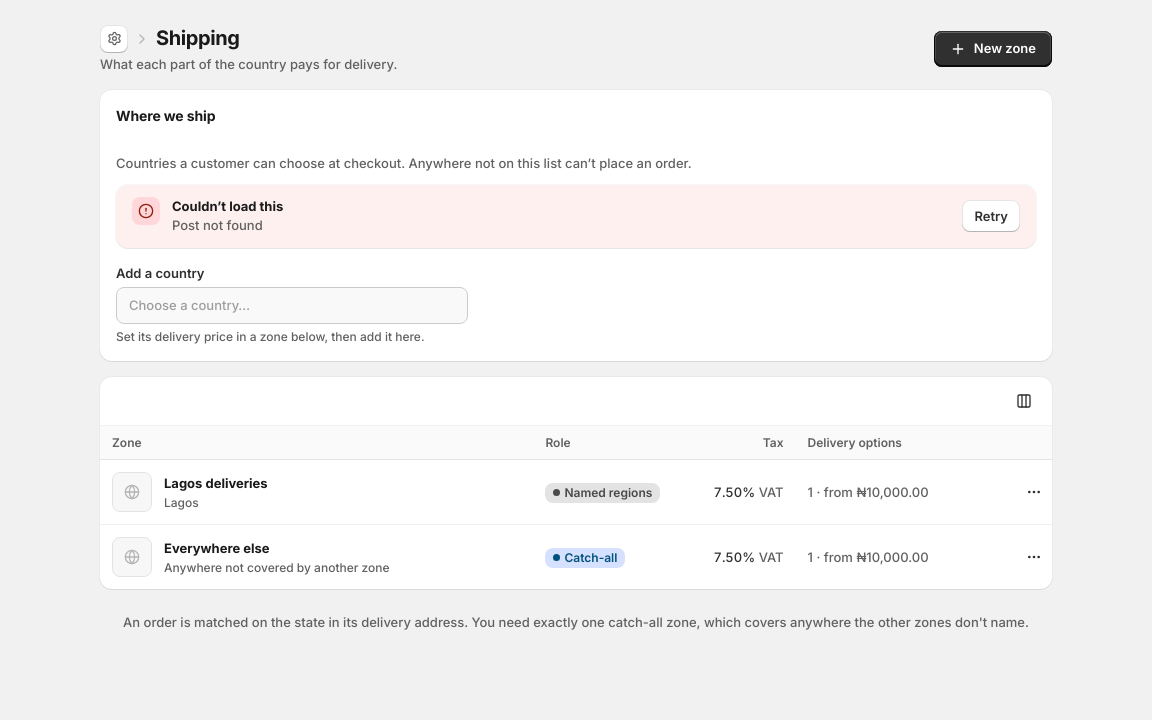
Test: the zones screen › offers no Delete on the only fallback zone’s row
Click the button named "Actions for Everywhere else": (1034, 558) [1016,540,1052,576]
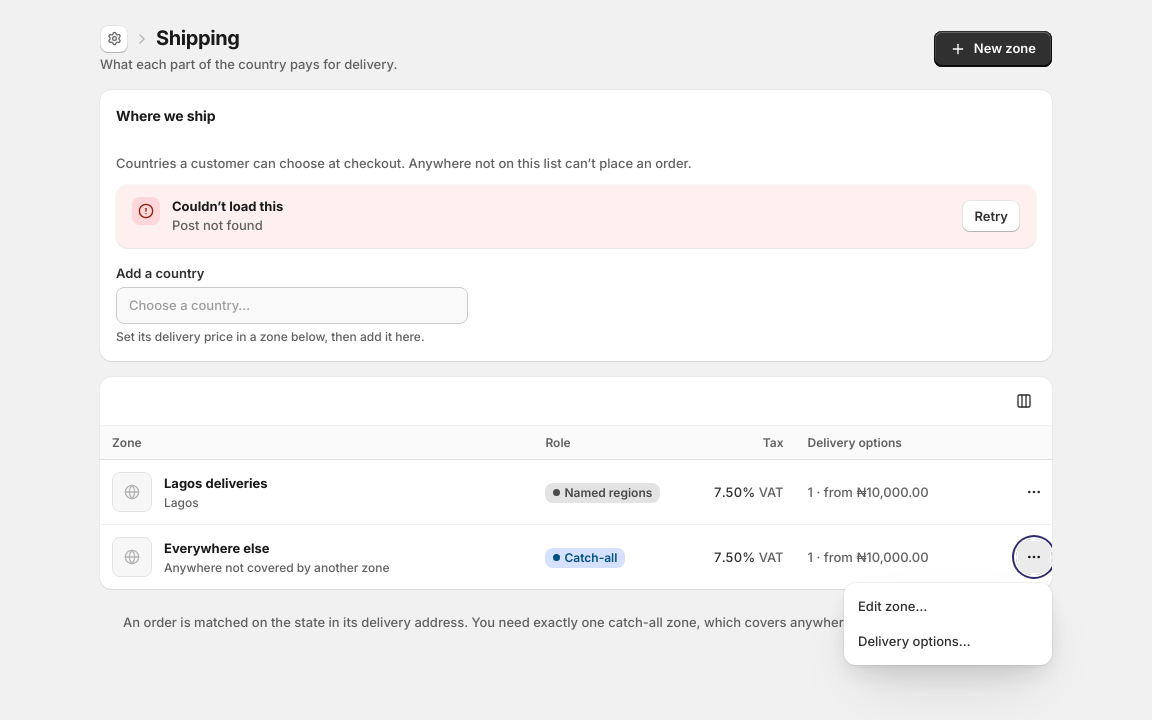
expect the menu item "Delete zone" is not shown: met
expect the menu item "Edit zone…" is shown: met, box [850,590,1046,624]
expect the menu item "Delivery options…" is shown: met, box [850,624,1046,659]
Press Escape
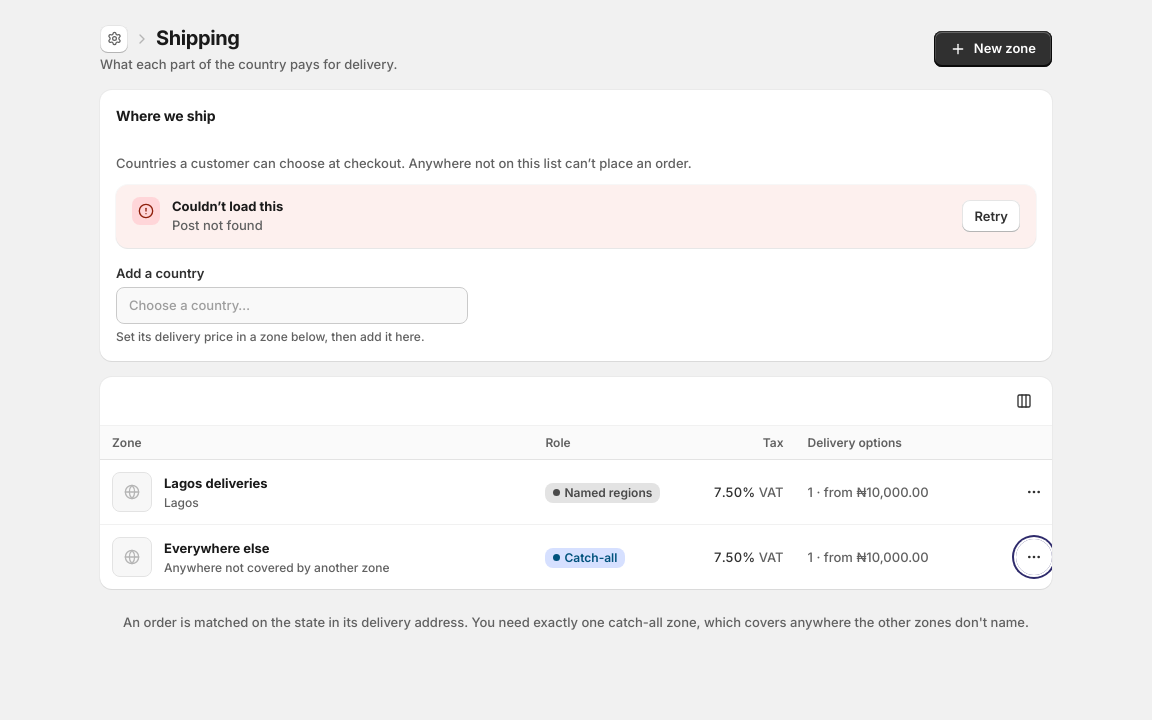
expect the menu is gone: met
Click the button named "Actions for Lagos deliveries": (1034, 492) [1016,474,1052,510]
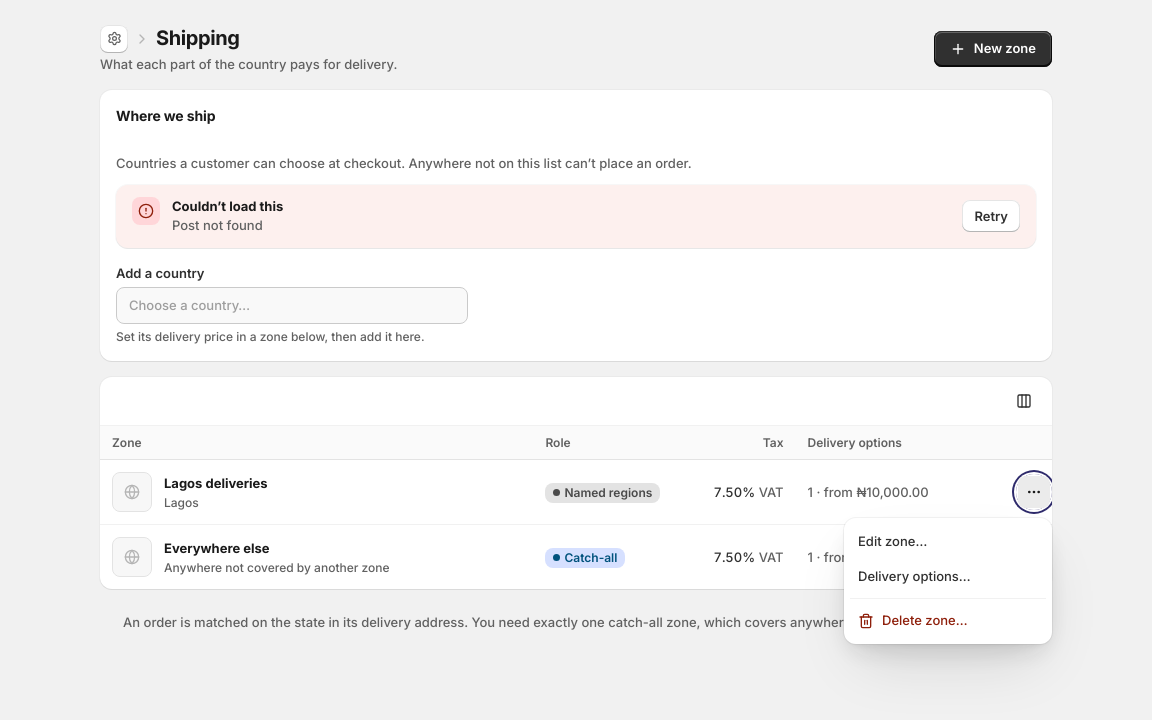
expect the menu item "Delete zone…" is shown: met, box [850,603,1046,638]
